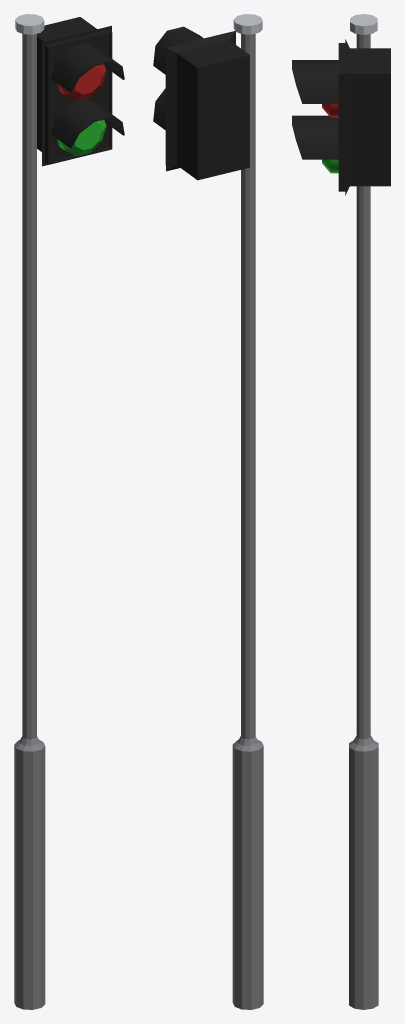
The model's file is SM_trafficlight_02.fbx.
The picture shows the model from 3 angles, left to right: view 1: azimuth 30°, elevation 25°; view 2: azimuth 210°, elevation 25°; view 3: azimuth 270°, elevation 25°; orthographic projection.
Parts seen in each view (by area): view 1: Line060; view 2: Line060; view 3: Line060.
Boxes of the visible parts, box(x1,y1,x2,y2) form: Line060: box(14, 14, 124, 1009); Line060: box(153, 14, 263, 1009); Line060: box(292, 14, 390, 1009).
Size of the model in its own units: 17.51 by 17.34 by 190.
